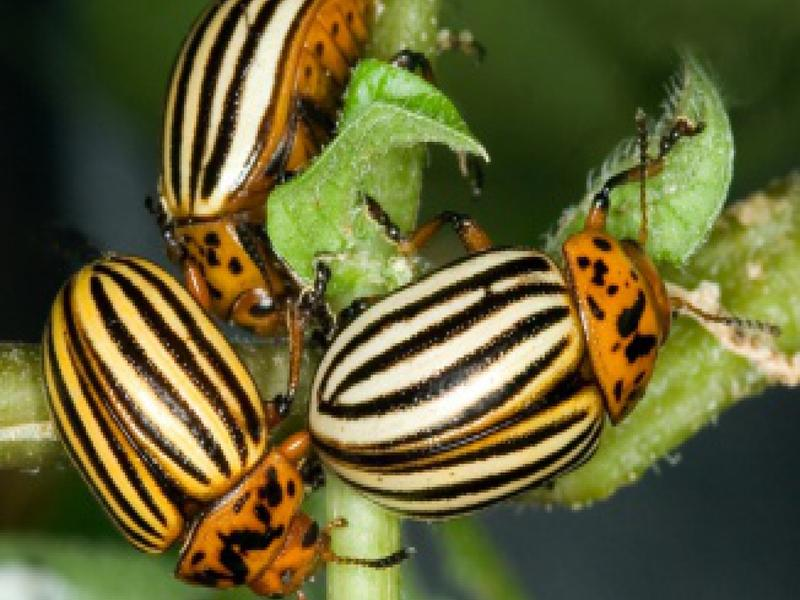hrosc: (24, 248, 331, 589), (309, 221, 658, 506), (172, 16, 342, 312)
